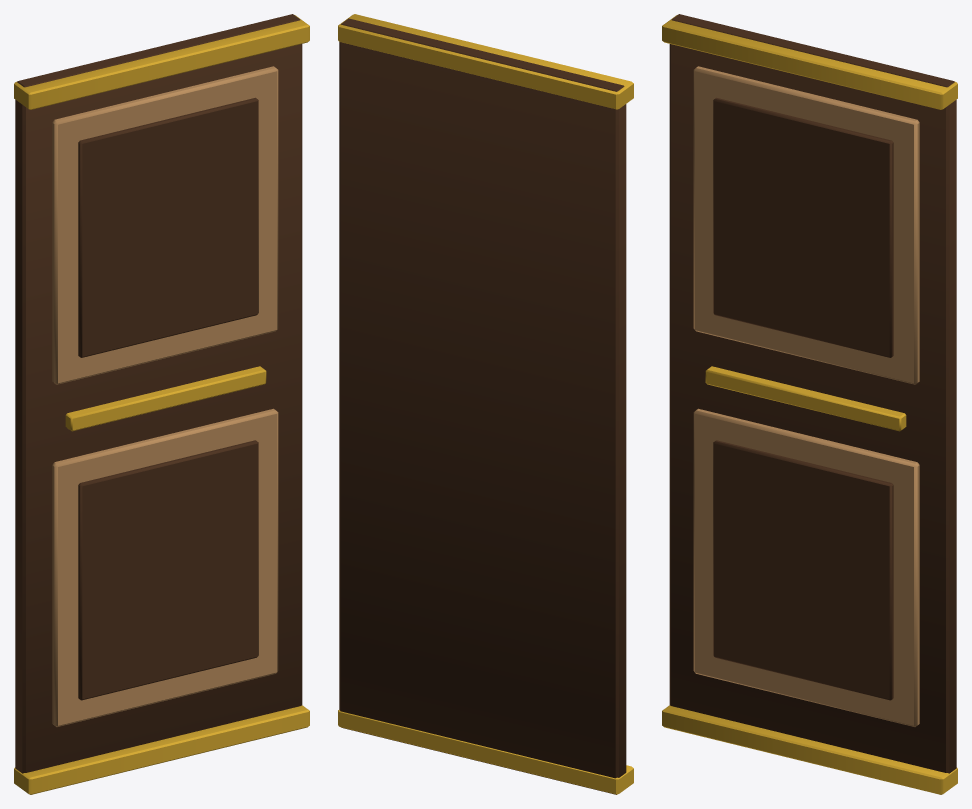
Rendered from wallpanel_tall_wood_panelled.glb.
The picture shows the model from 3 angles, left to right: view 1: azimuth 30°, elevation 25°; view 2: azimuth 150°, elevation 25°; view 3: azimuth 330°, elevation 25°; orthographic projection.
Parts seen in each view (by area): view 1: wallpanel_tall_wood_panelled; view 2: wallpanel_tall_wood_panelled; view 3: wallpanel_tall_wood_panelled.
Boxes of the visible parts, x1,y1,x2,y2 form: wallpanel_tall_wood_panelled: (14,14,309,794); wallpanel_tall_wood_panelled: (338,14,633,794); wallpanel_tall_wood_panelled: (662,14,957,794).
Size of the model in its own units: 1.01 by 2.41 by 0.103.
